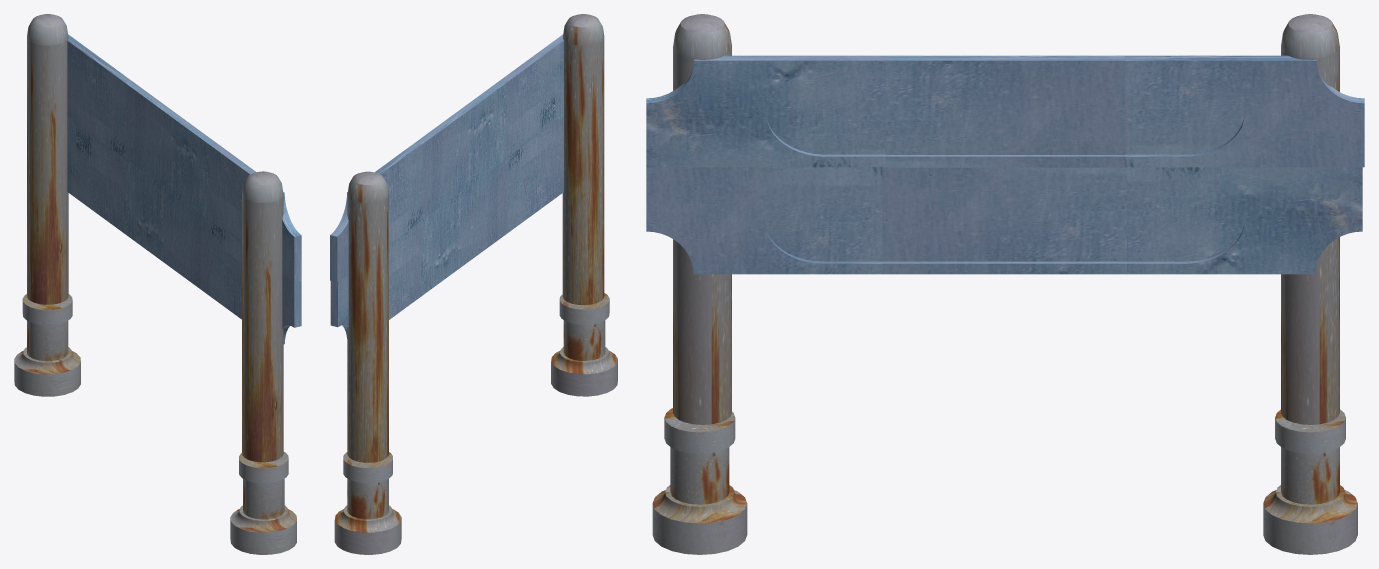
File: Sign.fbx
3 renders of one model, left to right at view 1: azimuth 30°, elevation 25°; view 2: azimuth 150°, elevation 25°; view 3: azimuth 270°, elevation 25°, orthographic. The views are drawn at different scales.
Parts seen in each view (by area): view 1: SignPole__2_, SignPole__1_, SignMiddle__1_, SignMiddle, SignBase, SignBase__1_, SignRight__1_, SignLeft, SignLeft__1_, SignRight; view 2: SignPole__2_, SignPole__1_, SignMiddle__1_, SignMiddle, SignBase__1_, SignBase, SignLeft__1_, SignRight, SignRight__1_, SignLeft; view 3: SignMiddle__1_, SignMiddle, SignRight__1_, SignLeft__1_, SignRight, SignLeft, SignPole__1_, SignPole__2_, SignBase, SignBase__1_.
Boxes of the visible parts, bbox=[...] form: SignPole__2_: bbox=[242, 171, 283, 462]; SignPole__1_: bbox=[27, 14, 68, 304]; SignMiddle__1_: bbox=[125, 81, 216, 219]; SignMiddle: bbox=[124, 158, 210, 296]; SignBase: bbox=[230, 452, 296, 554]; SignBase__1_: bbox=[14, 294, 80, 396]; SignRight__1_: bbox=[67, 34, 131, 157]; SignLeft: bbox=[67, 116, 124, 233]; SignLeft__1_: bbox=[209, 143, 301, 282]; SignRight: bbox=[211, 221, 301, 344]; SignPole__2_: bbox=[562, 14, 604, 305]; SignPole__1_: bbox=[347, 171, 388, 462]; SignMiddle__1_: bbox=[415, 81, 506, 219]; SignMiddle: bbox=[421, 157, 508, 296]; SignBase__1_: bbox=[334, 452, 401, 554]; SignBase: bbox=[551, 293, 617, 396]; SignLeft__1_: bbox=[500, 34, 563, 157]; SignRight: bbox=[508, 116, 563, 232]; SignRight__1_: bbox=[330, 142, 422, 282]; SignLeft: bbox=[330, 221, 421, 338]; SignMiddle__1_: bbox=[885, 55, 1125, 167]; SignMiddle: bbox=[882, 167, 1126, 274]; SignRight__1_: bbox=[1124, 55, 1364, 167]; SignLeft__1_: bbox=[646, 55, 886, 167]; SignRight: bbox=[646, 167, 882, 274]; SignLeft: bbox=[1127, 167, 1362, 274]; SignPole__1_: bbox=[1281, 14, 1339, 424]; SignPole__2_: bbox=[673, 14, 731, 424]; SignBase: bbox=[652, 408, 747, 554]; SignBase__1_: bbox=[1263, 409, 1357, 554].
Bounding box in the file's own units: 80.37 × 482 × 609.
